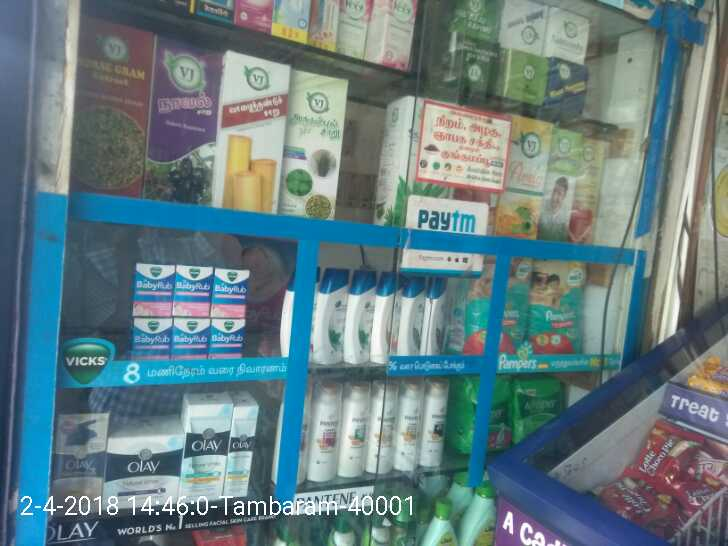vicks: (132, 267, 251, 360)
